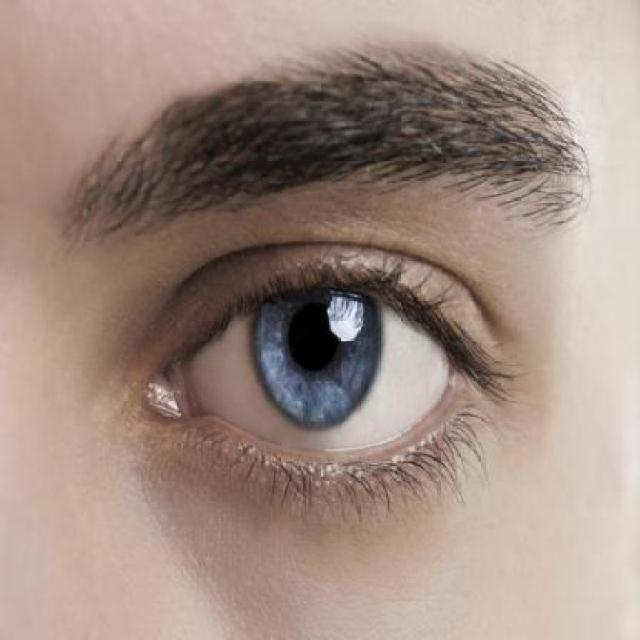awake: (147, 288, 455, 460)
